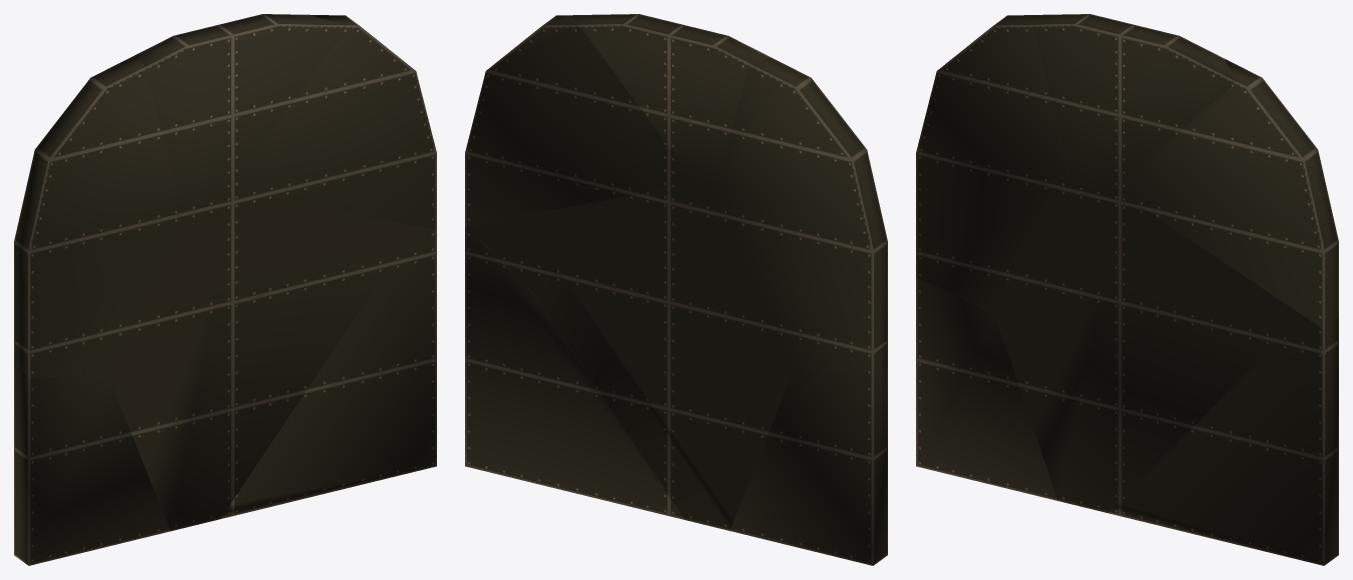
File: MetalDoorFragmented.fbx
3 renders of one model, left to right at view 1: azimuth 30°, elevation 25°; view 2: azimuth 150°, elevation 25°; view 3: azimuth 330°, elevation 25°, orthographic.
Visible parts, largest first — view 1: Metal Door_cell.047, Metal Door_cell.049_cell.001, Metal Door_cell.049_cell, Metal Door_cell.050, Metal Door_cell.043, Metal Door_cell.048, Metal Door_cell.049_cell.003, Metal Door_cell.049_cell.004; view 2: Metal Door_cell.047, Metal Door_cell.049_cell.001, Metal Door_cell.050, Metal Door_cell.049_cell, Metal Door_cell.043, Metal Door_cell.048, Metal Door_cell.049_cell.003, Metal Door_cell.049_cell.004, Metal Door_cell.049_cell.002; view 3: Metal Door_cell.047, Metal Door_cell.049_cell, Metal Door_cell.049_cell.001, Metal Door_cell.050, Metal Door_cell.048, Metal Door_cell.043, Metal Door_cell.049_cell.003, Metal Door_cell.049_cell.004.
Part boxes in pixels (left/top/right/bottom): Metal Door_cell.047: left=14, top=54, right=182, bottom=377; Metal Door_cell.049_cell.001: left=145, top=257, right=395, bottom=531; Metal Door_cell.049_cell: left=221, top=229, right=436, bottom=518; Metal Door_cell.050: left=227, top=14, right=436, bottom=229; Metal Door_cell.043: left=14, top=361, right=170, bottom=565; Metal Door_cell.048: left=137, top=14, right=348, bottom=205; Metal Door_cell.049_cell.003: left=153, top=191, right=431, bottom=279; Metal Door_cell.049_cell.004: left=107, top=273, right=219, bottom=468; Metal Door_cell.047: left=715, top=57, right=887, bottom=371; Metal Door_cell.049_cell.001: left=534, top=258, right=759, bottom=530; Metal Door_cell.050: left=465, top=15, right=695, bottom=226; Metal Door_cell.049_cell: left=465, top=226, right=684, bottom=519; Metal Door_cell.043: left=730, top=367, right=887, bottom=565; Metal Door_cell.048: left=568, top=14, right=770, bottom=189; Metal Door_cell.049_cell.003: left=482, top=184, right=750, bottom=275; Metal Door_cell.049_cell.004: left=689, top=270, right=794, bottom=455; Metal Door_cell.049_cell.002: left=467, top=223, right=551, bottom=294; Metal Door_cell.047: left=916, top=14, right=1070, bottom=312; Metal Door_cell.049_cell: left=1108, top=315, right=1338, bottom=565; Metal Door_cell.049_cell.001: left=1033, top=273, right=1282, bottom=512; Metal Door_cell.050: left=1114, top=59, right=1338, bottom=329; Metal Door_cell.048: left=1033, top=14, right=1235, bottom=187; Metal Door_cell.043: left=916, top=278, right=1057, bottom=500; Metal Door_cell.049_cell.003: left=1040, top=181, right=1318, bottom=336; Metal Door_cell.049_cell.004: left=995, top=234, right=1106, bottom=425.
Size of the model in its own units: 800 by 900 by 50.
